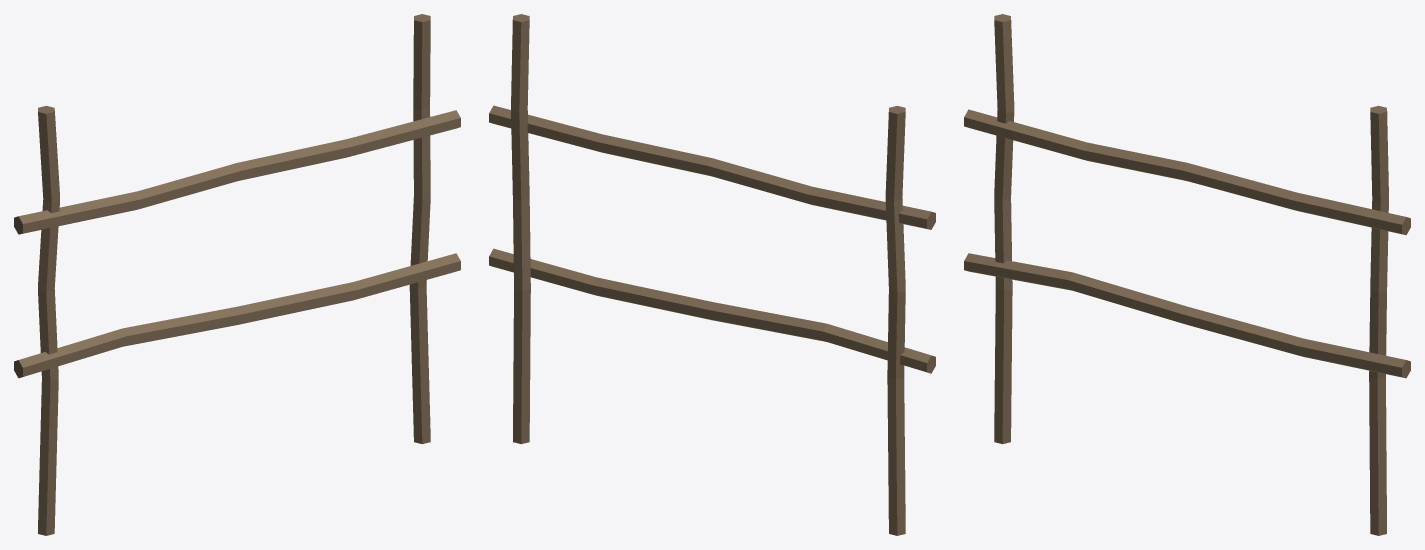
The model's file is fence_a_1m_node.FBX.
The picture shows the model from 3 angles, left to right: view 1: azimuth 30°, elevation 25°; view 2: azimuth 150°, elevation 25°; view 3: azimuth 330°, elevation 25°; orthographic projection.
Parts seen in each view (by area): view 1: fence_a_1m_node; view 2: fence_a_1m_node; view 3: fence_a_1m_node.
Boxes of the visible parts, x1,y1,x2,y2 form: fence_a_1m_node: (14, 14, 460, 535); fence_a_1m_node: (489, 14, 935, 535); fence_a_1m_node: (964, 14, 1410, 535).
Bounding box in the file's own units: 1.16 × 1.07 × 0.0613.
